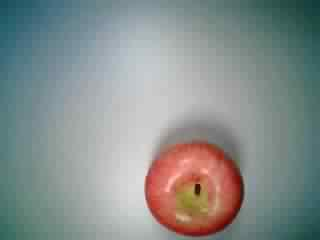apple: (141, 134, 245, 238)
